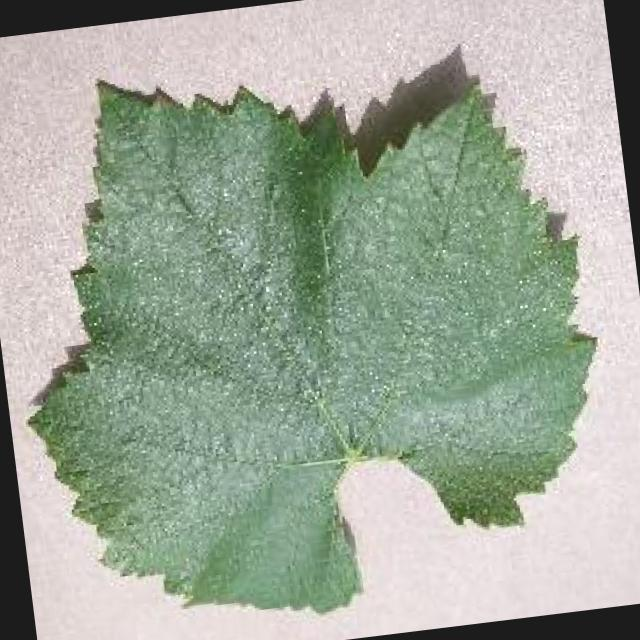healthy: (36, 87, 595, 605)
